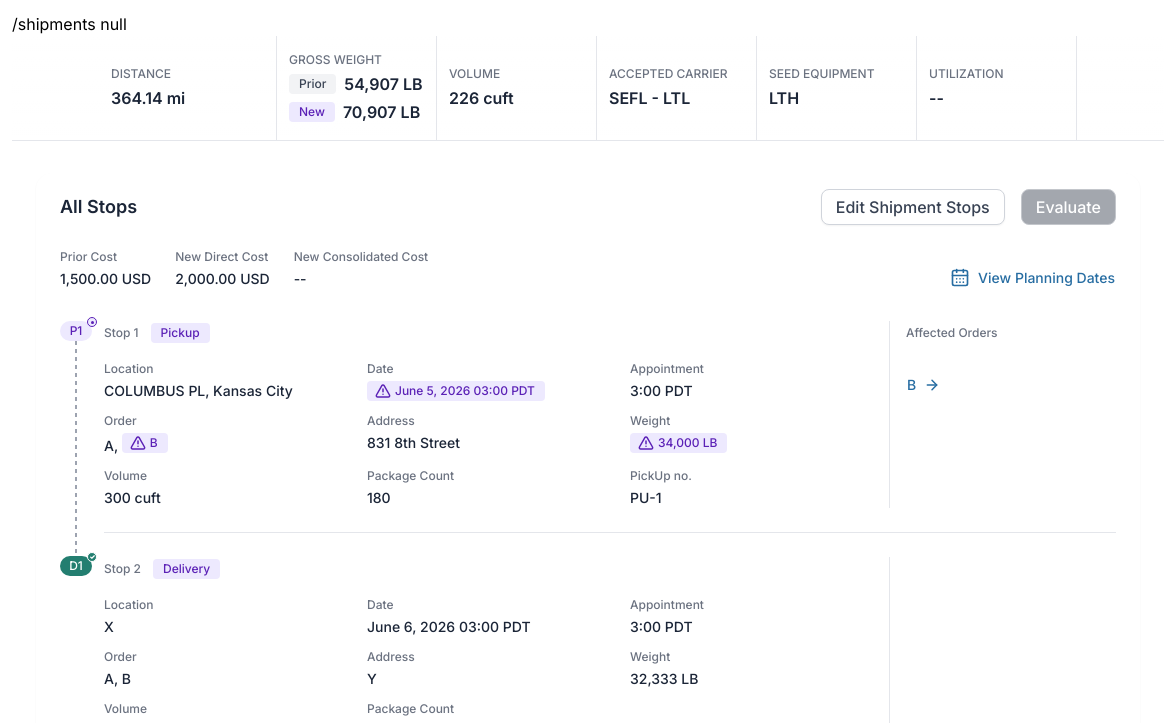
Scenario: StopsTab — consolidated order-change review (LINX-15435/15436) › wraps New Consolidated Cost with a tooltip explaining the N/A when a location changed
Hover over the element showing "New Consolidated Cost --": {"x": 361, "y": 256} [294,249,428,289]
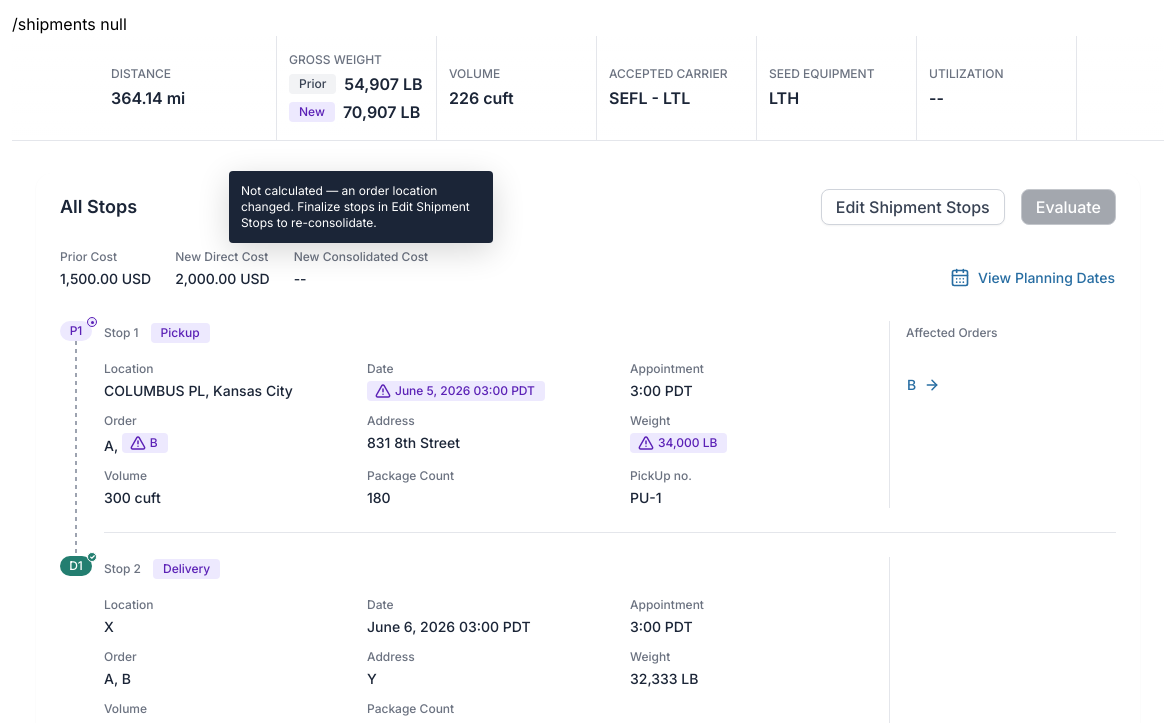
Expected: the text "Not calculated — an order location changed" is shown, [241,183,470,230]
